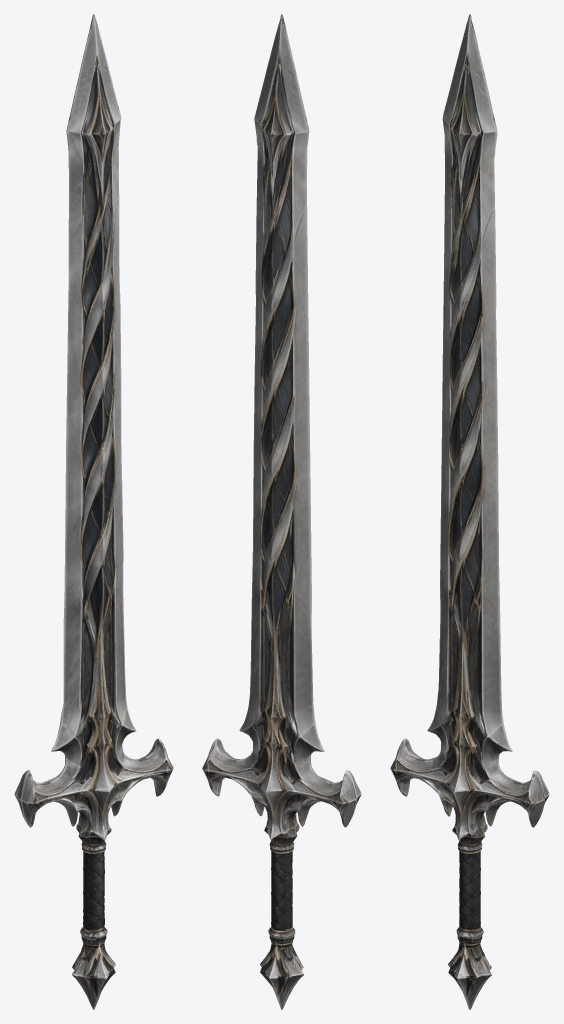
The model's file is GRS048_Remesh_10k.fbx.
3 renders of one model, left to right at view 1: azimuth 30°, elevation 25°; view 2: azimuth 150°, elevation 25°; view 3: azimuth 330°, elevation 25°, orthographic.
Parts seen in each view (by area): view 1: output_unwrapped; view 2: output_unwrapped; view 3: output_unwrapped.
Boxes of the visible parts, x1,y1,x2,y2 form: output_unwrapped: (14,14,173,1009); output_unwrapped: (202,14,361,1009); output_unwrapped: (390,14,549,1009).
Size of the model in its own units: 29.68 by 190 by 10.74.
1 material, 1 textured.
